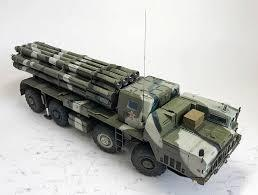MIL_SAM_TEL: (10, 35, 244, 181)
